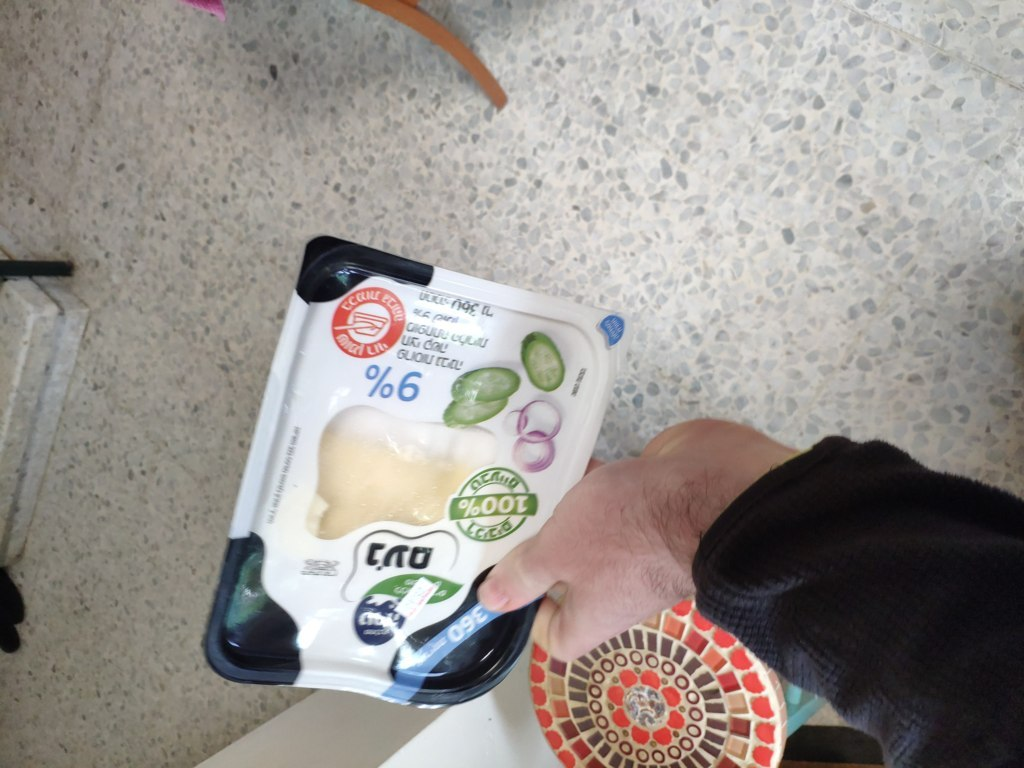Cheese: (198, 258, 622, 710)
